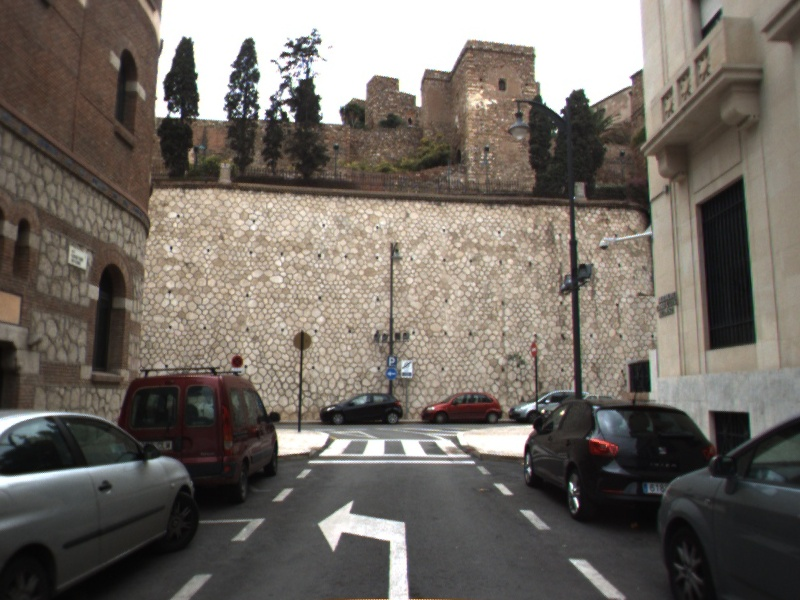LEFT: (314, 495, 412, 600)
